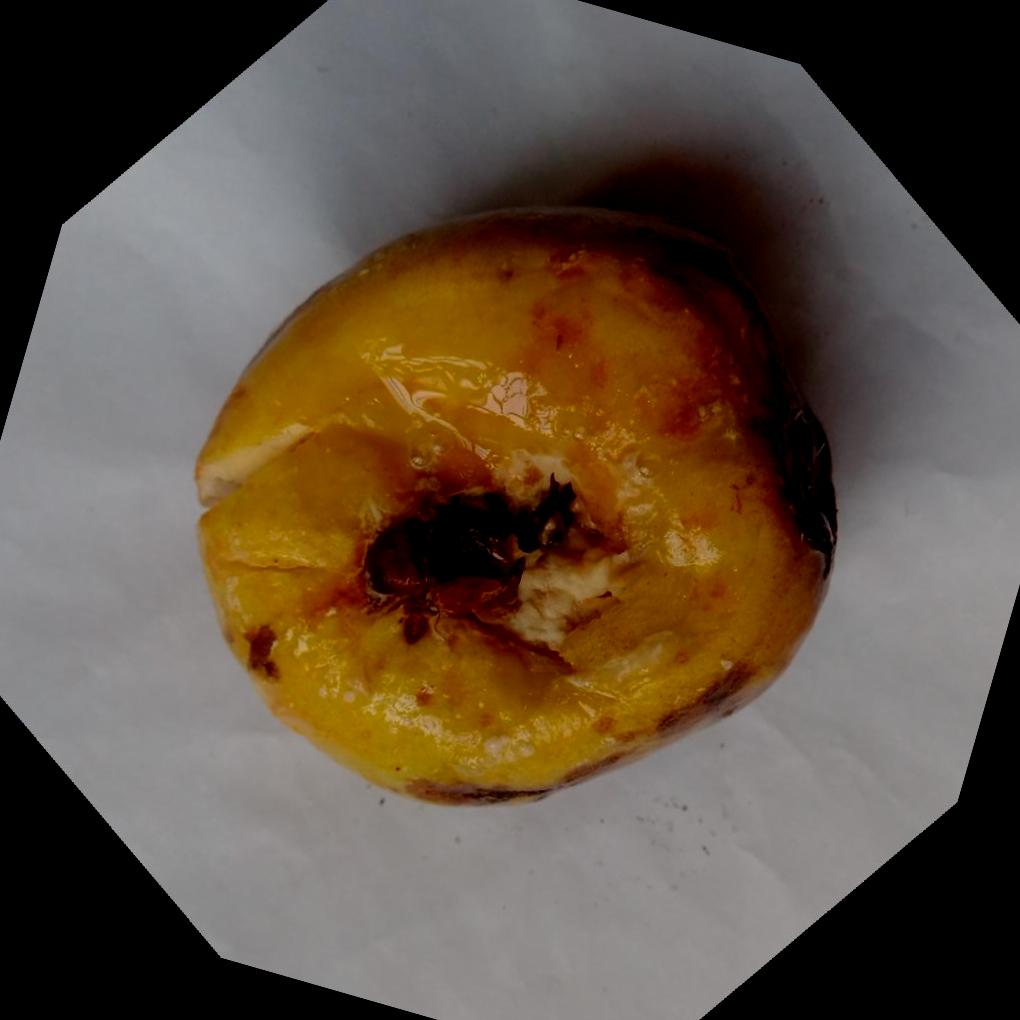FreshOrange: (195, 204, 840, 807)
